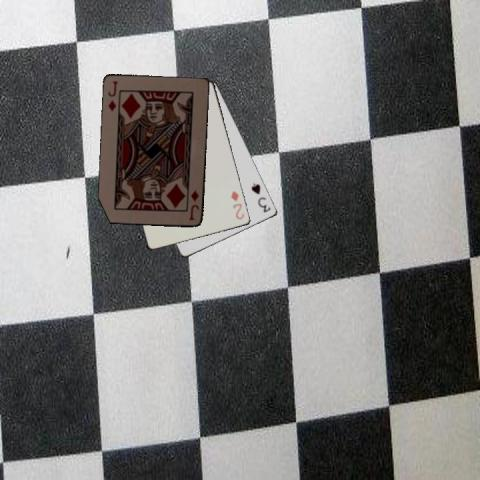2d: (228, 188, 246, 221)
3s: (249, 180, 272, 214)
Jd: (186, 187, 200, 222), (106, 79, 120, 113)
